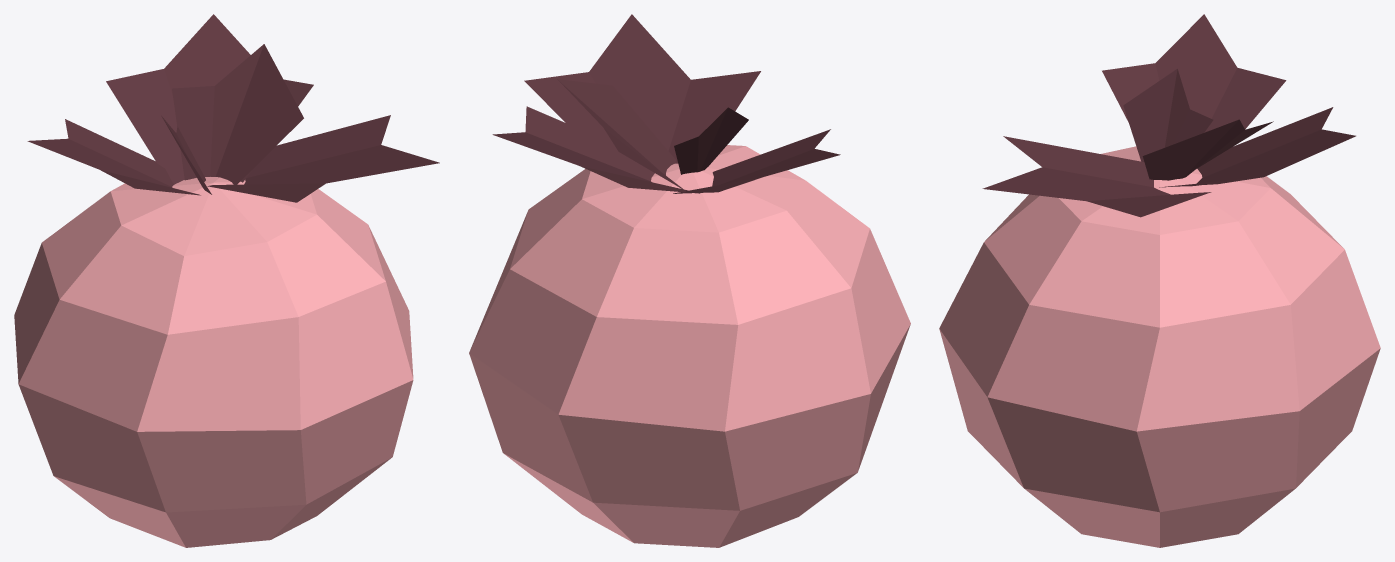
The model's file is scifi-scifi-plant-leaf-big.glb.
The picture shows the model from 3 angles, left to right: view 1: azimuth 30°, elevation 25°; view 2: azimuth 150°, elevation 25°; view 3: azimuth 270°, elevation 25°; orthographic projection. The views are drawn at different scales.
Parts seen in each view (by area): view 1: scifi-plant-leaf-big; view 2: scifi-plant-leaf-big; view 3: scifi-plant-leaf-big.
Part boxes in pixels (bbox=[...]): scifi-plant-leaf-big: bbox=[14, 14, 439, 547]; scifi-plant-leaf-big: bbox=[469, 14, 910, 547]; scifi-plant-leaf-big: bbox=[939, 14, 1380, 547].
Size of the model in its own units: 1.11 by 1.26 by 1.11.
